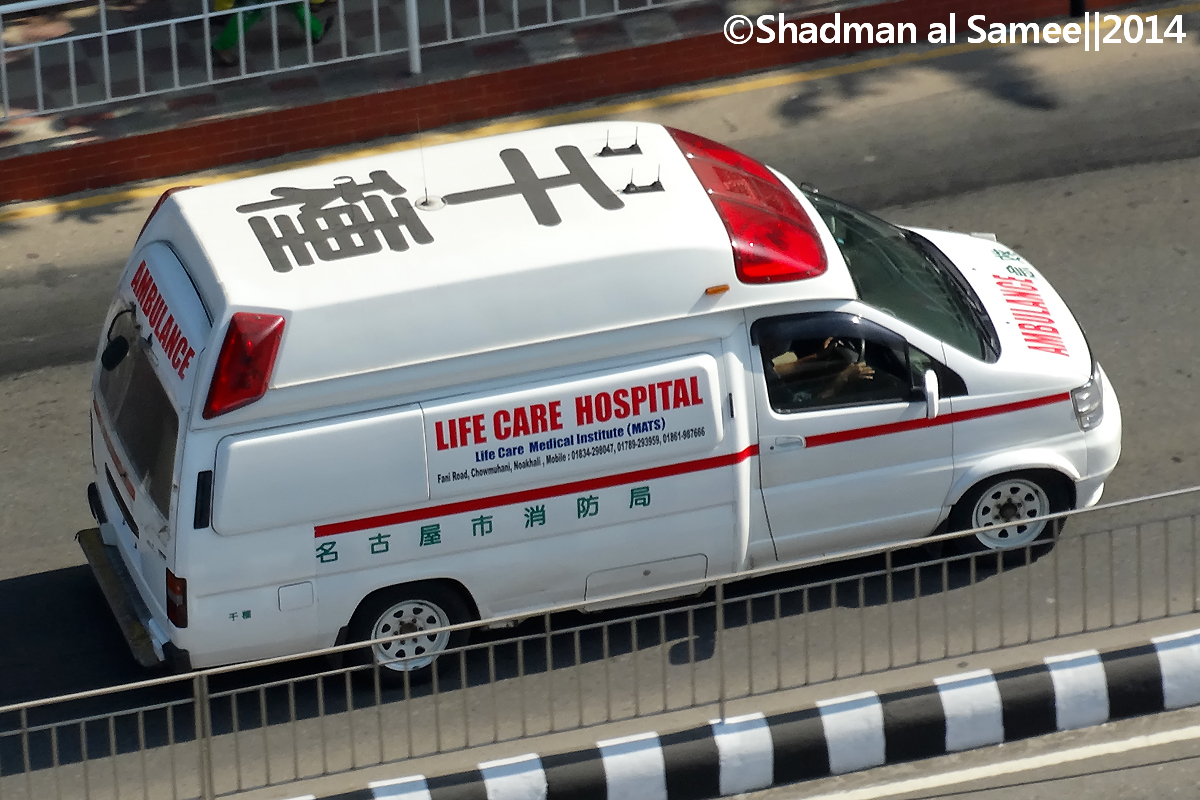Ambulance: (74, 119, 1124, 704)
